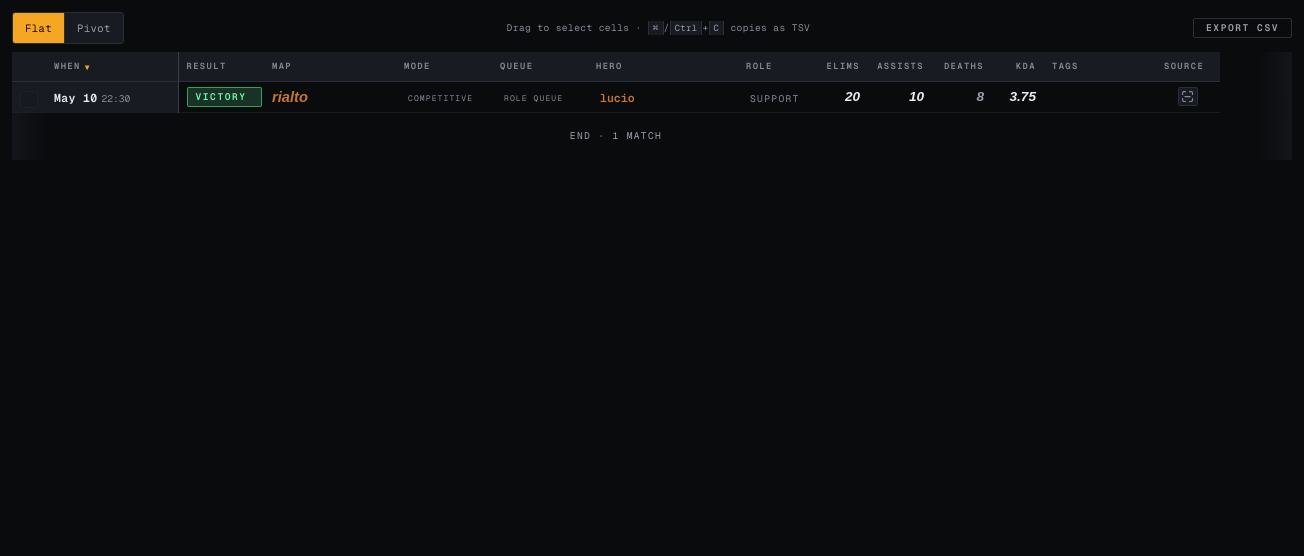
it: MatchesTable › flat / pivot mode › swaps the flat grid for the pivot builder and back
Expected: the column heading "When" is shown, [46, 52, 178, 82]
Step 1. Click the button "Pivot" → (93, 28), box [64, 13, 123, 43]
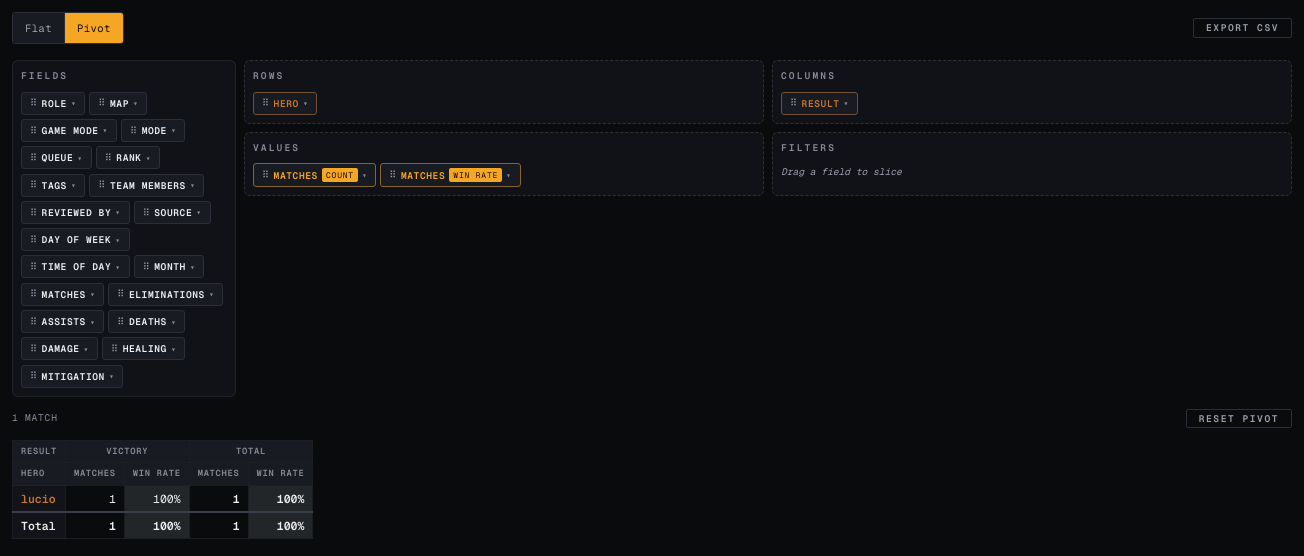
Result: the column heading "When" is gone
Step 2. Click the button "Flat" → (38, 28), box [13, 13, 64, 43]
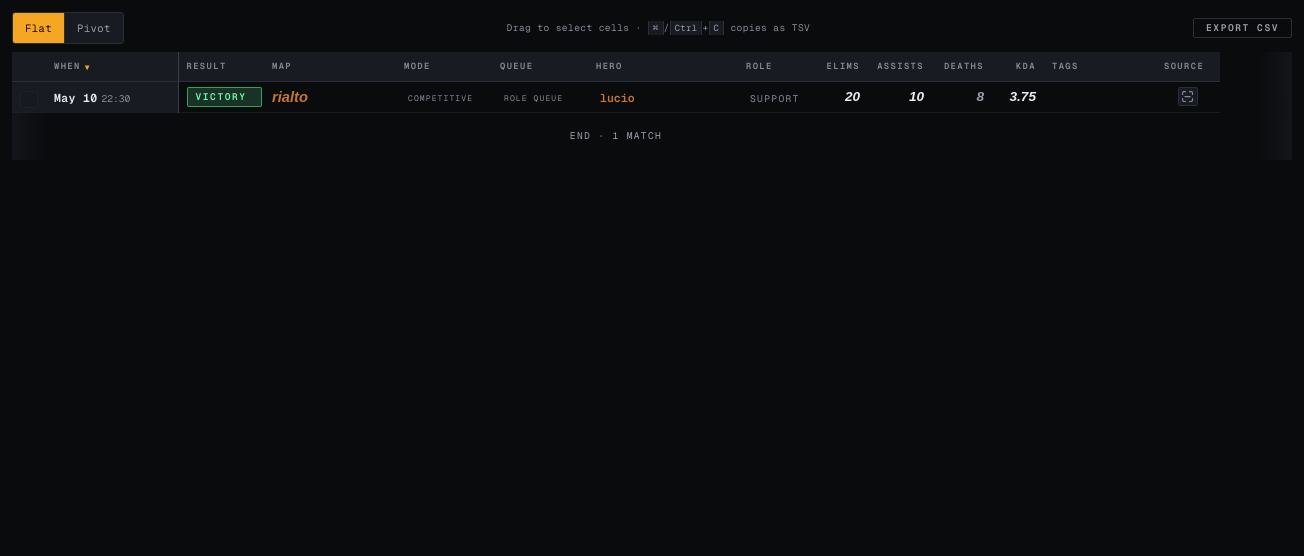
Result: the column heading "When" is shown at [46, 52, 178, 82]
